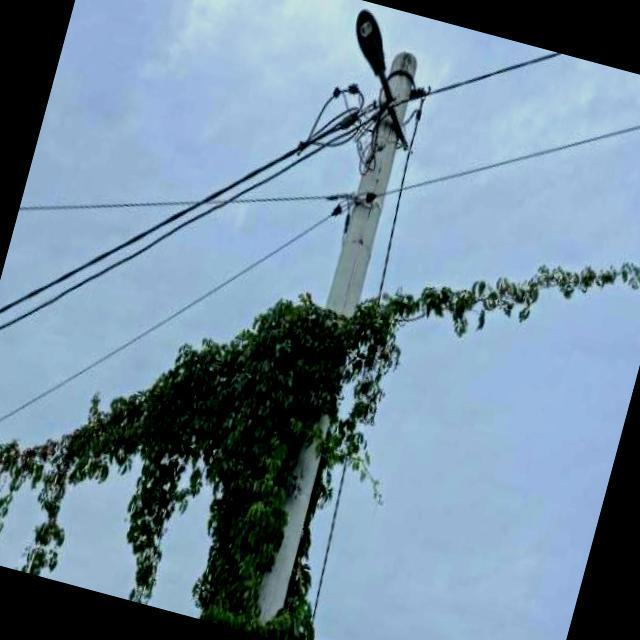critical vegetation: (220, 95, 442, 640), (150, 251, 393, 543)
